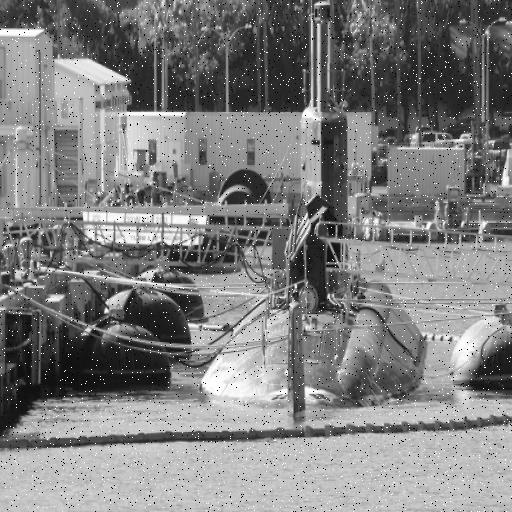submarine: (200, 1, 408, 406)
